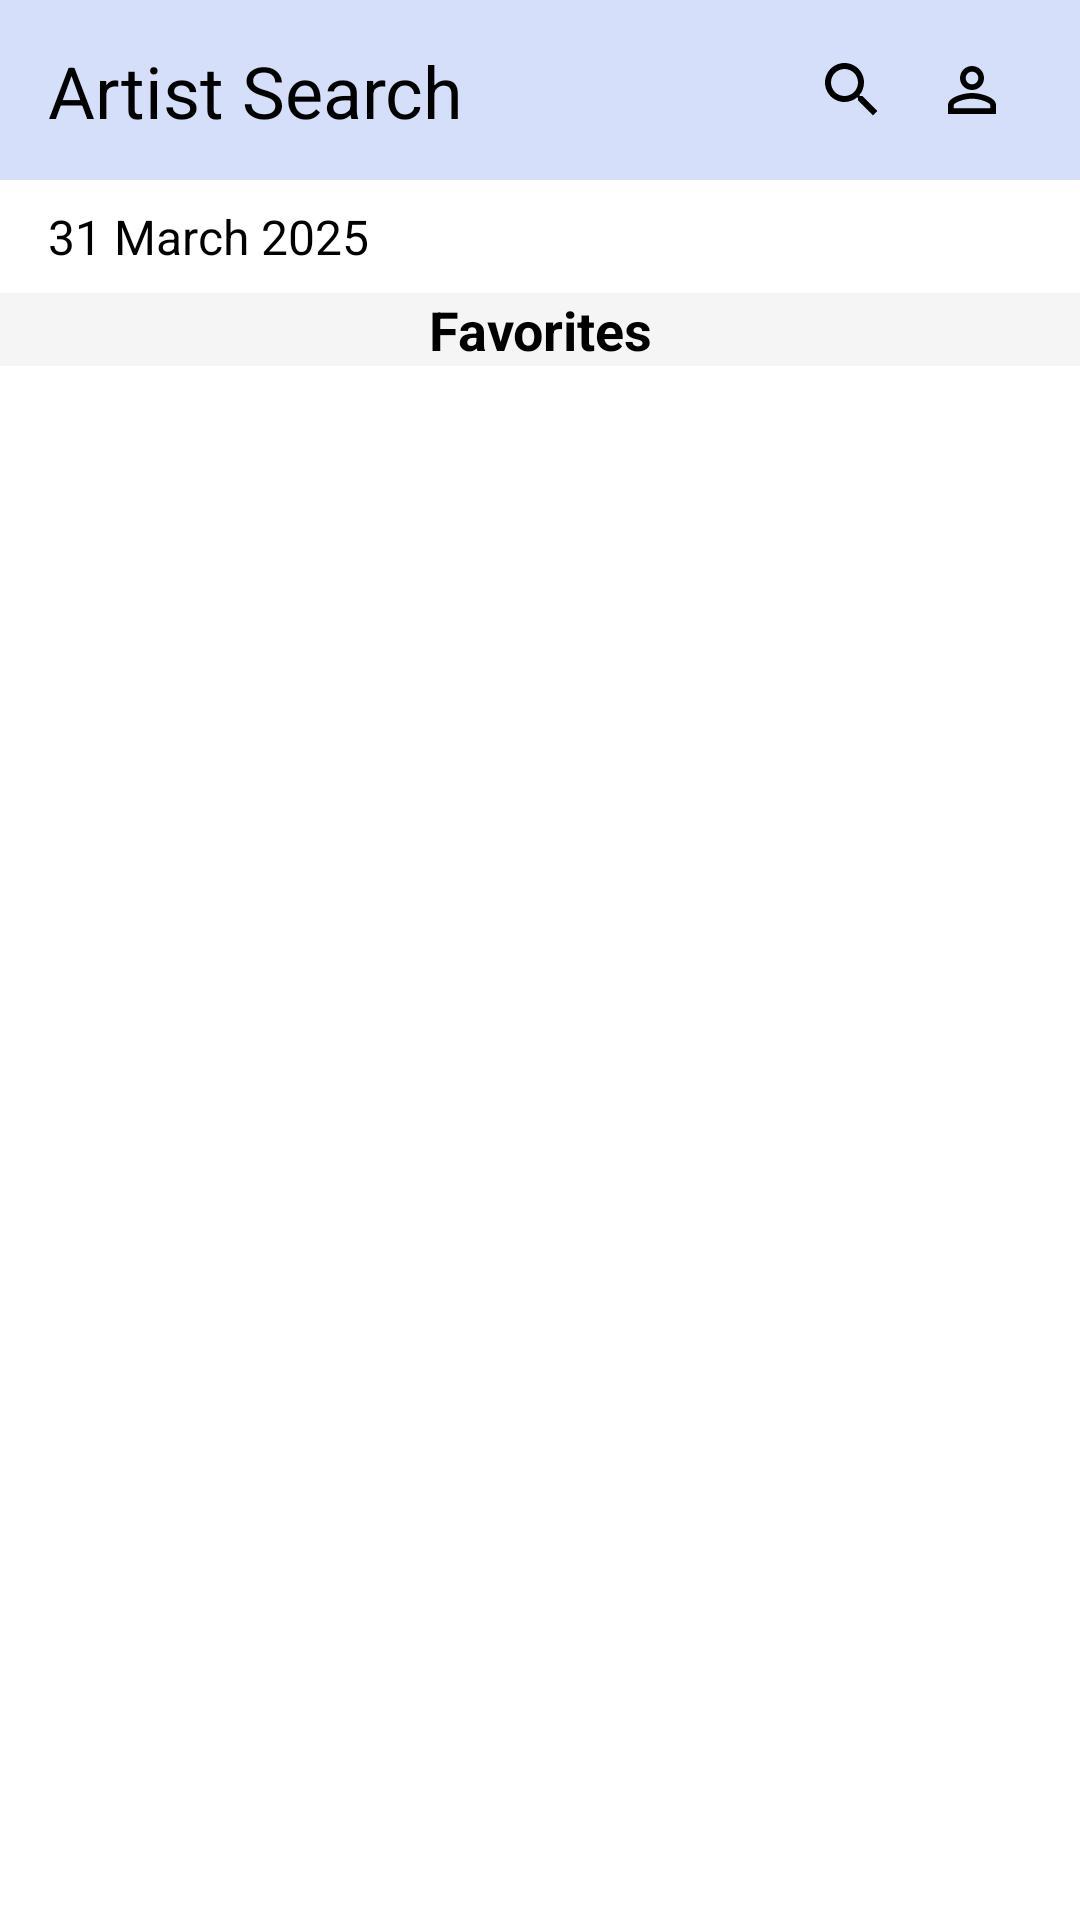

Icons on this 1080 × 1920 Android screen, each with its box as (x1, y1, x2, y2):
User Profile: (948, 66, 996, 114)
